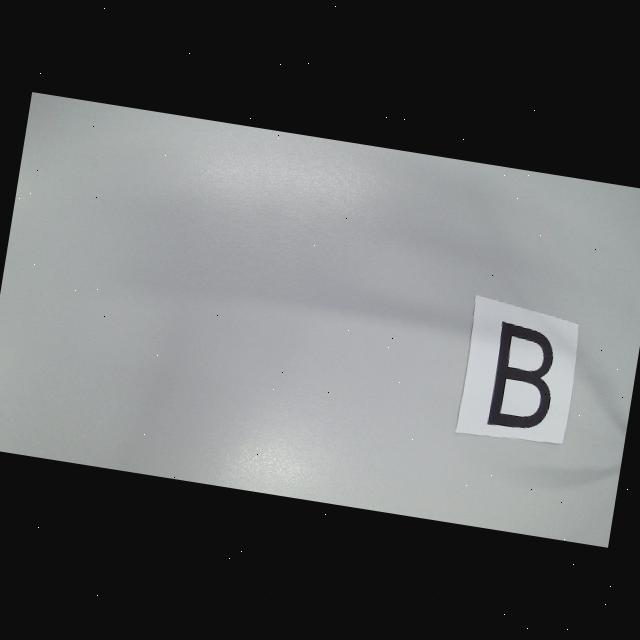FAKE: (486, 322, 561, 433)
